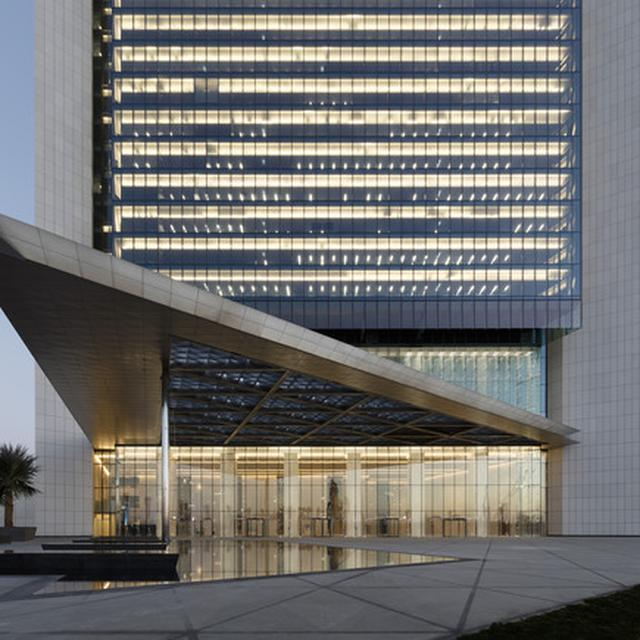building: (34, 0, 640, 541)
